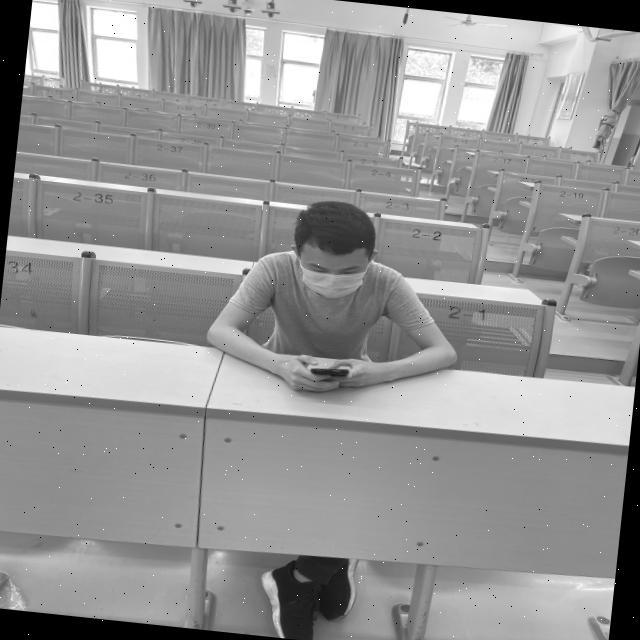phone: (201, 190, 472, 407)
